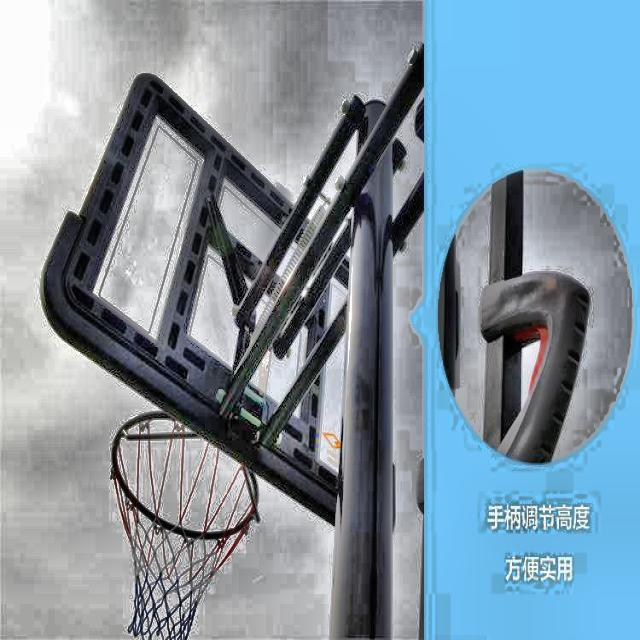rim: (111, 409, 257, 640)
